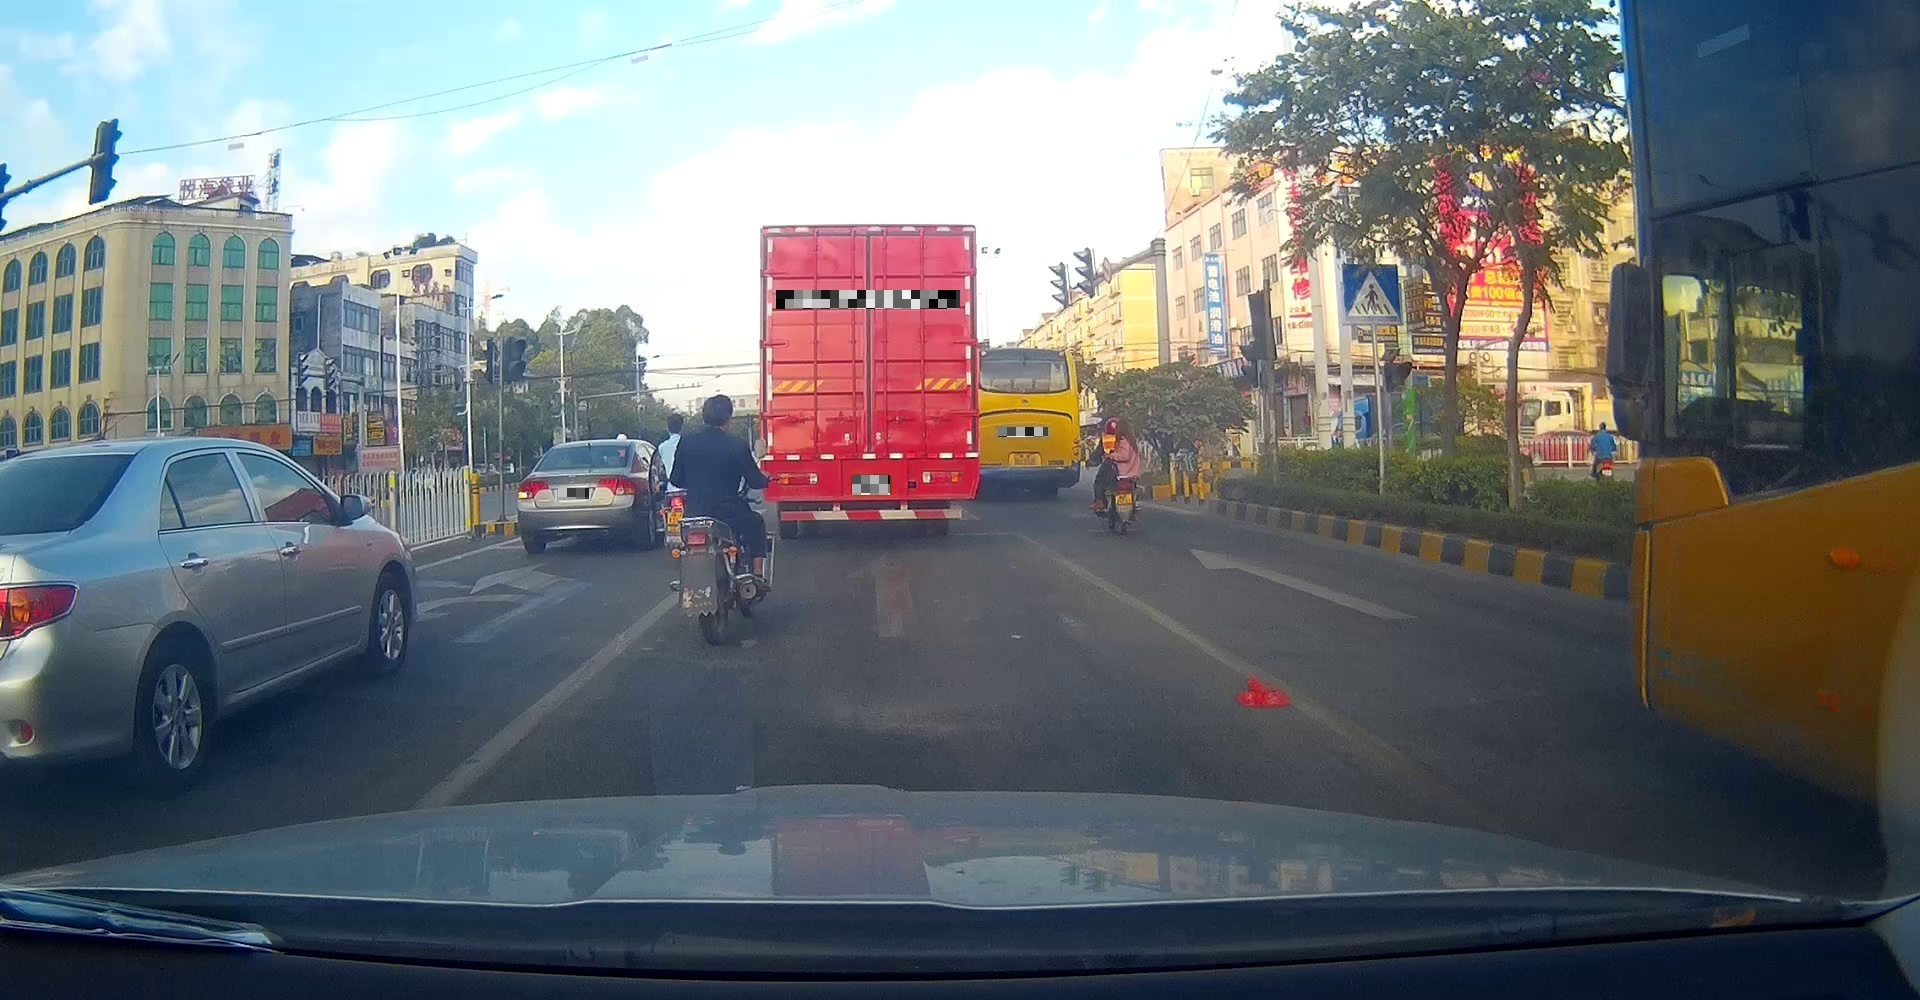L_light: (518, 480, 549, 499), (775, 472, 818, 484)
R_light: (597, 477, 637, 495), (922, 471, 963, 482)
T_light: (850, 236, 885, 245), (573, 445, 593, 451)
day-left: (518, 440, 637, 553)
day-no: (758, 225, 980, 541)
plate_1: (557, 489, 589, 499)
plate_2: (776, 291, 960, 308)
plate_3: (852, 475, 890, 495)
plate_4: (998, 426, 1048, 437)
